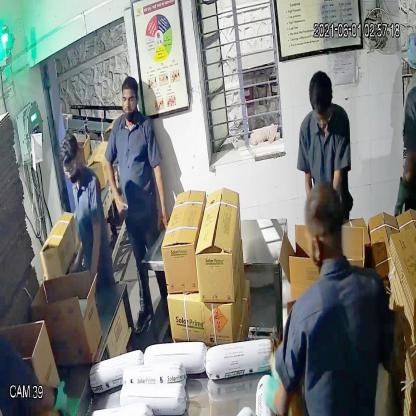goggles: (62, 155, 80, 178)
